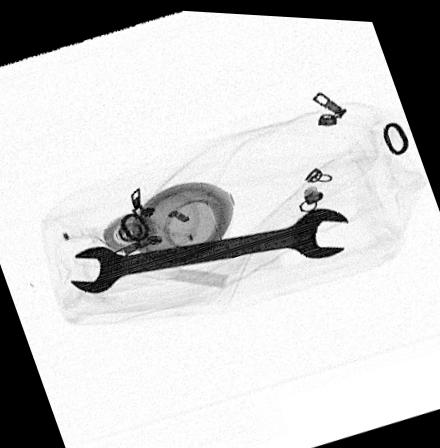Wrench: (71, 203, 352, 293)
